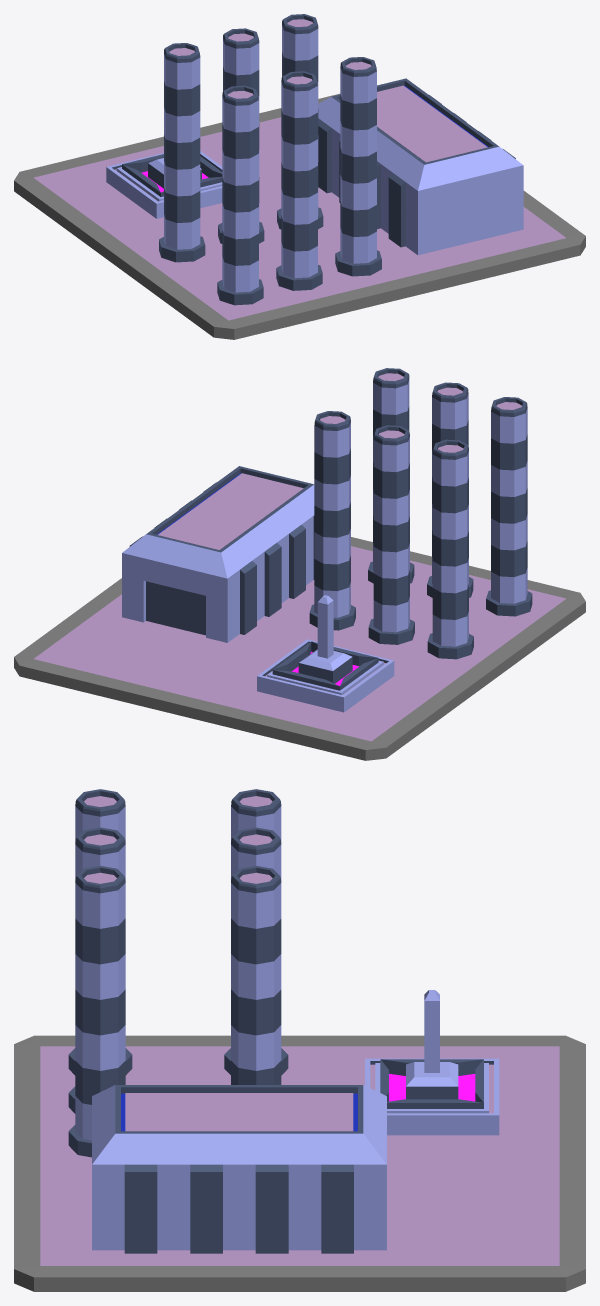
File: factoryblock.fbx
The picture shows the model from 3 angles, top to bottom: view 1: azimuth 30°, elevation 25°; view 2: azimuth 150°, elevation 25°; view 3: azimuth 270°, elevation 25°; orthographic projection. The views are drawn at different scales.
Parts seen in each view (by area): view 1: FactoryBlock; view 2: FactoryBlock; view 3: FactoryBlock.
Boxes of the visible parts, x1,y1,x2,y2 form: FactoryBlock: [14, 14, 585, 339]; FactoryBlock: [14, 368, 585, 760]; FactoryBlock: [14, 789, 585, 1291].
Bounding box in the file's own units: 100 × 55 × 100.
